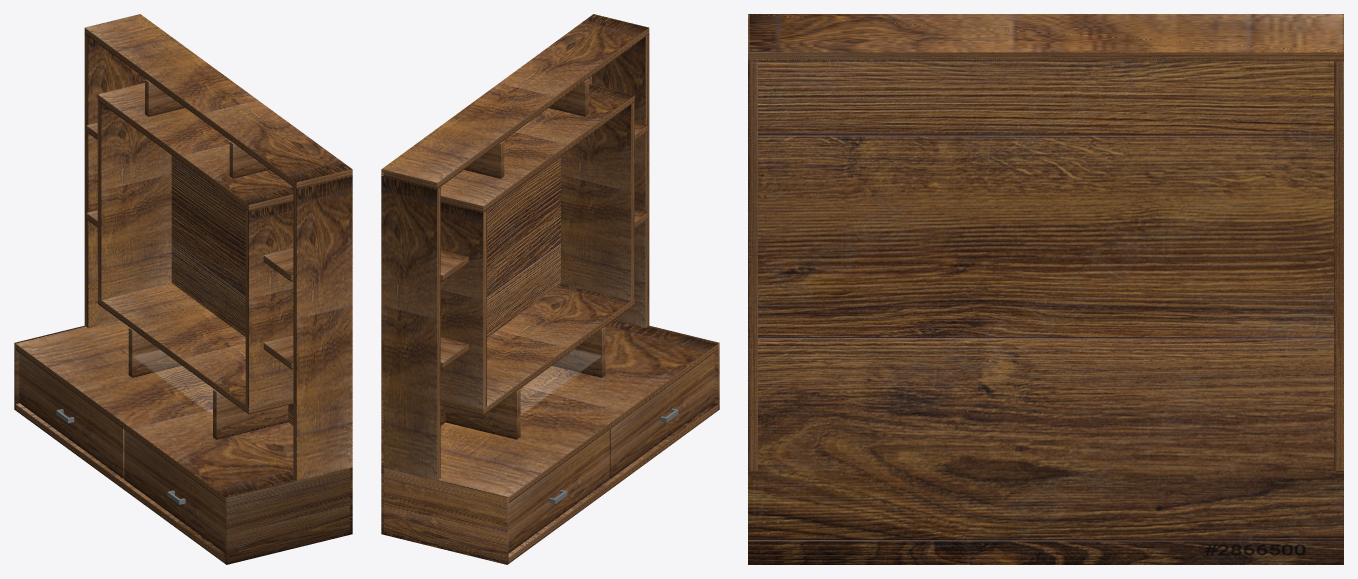
The picture shows the model from 3 angles, left to right: view 1: azimuth 30°, elevation 25°; view 2: azimuth 150°, elevation 25°; view 3: azimuth 270°, elevation 25°; orthographic projection. The views are drawn at different scales.
Visible parts, largest first — view 1: Box007, Box016, Box017, Box019, ChamferBox003, Box021, ChamferBox002, Box020, Box018, Box015, Box002, Box005 (+9 smaller); view 2: Box007, Box015, Box017, Box020, ChamferBox003, Box021, ChamferBox001, Box019, Box018, Box016, Box005, Box002 (+9 smaller); view 3: ChamferBox003, Box017, Box016, Box015.
Boxes of the visible parts, box(x1,y1,x2,y2) form: Box007: box(15, 320, 294, 502); Box016: box(293, 175, 352, 480); Box017: box(84, 14, 352, 188); Box019: box(97, 101, 171, 299); ChamferBox003: box(142, 76, 352, 534); Box021: box(97, 283, 293, 414); ChamferBox002: box(225, 468, 350, 564); Box020: box(245, 201, 293, 407); Box018: box(97, 83, 293, 211); Box015: box(84, 34, 141, 328); Box002: box(19, 353, 124, 478); Box005: box(124, 430, 225, 553); Box007: box(439, 320, 718, 502); Box015: box(381, 175, 440, 480); Box017: box(381, 14, 649, 188); Box020: box(561, 102, 634, 300); ChamferBox003: box(381, 76, 591, 534); Box021: box(440, 284, 634, 415); ChamferBox001: box(383, 468, 508, 564); Box019: box(440, 202, 486, 408); Box018: box(440, 84, 634, 212); Box016: box(592, 34, 649, 328); Box005: box(609, 353, 714, 478); Box002: box(508, 430, 609, 553); ChamferBox003: box(748, 55, 1343, 564); Box017: box(748, 14, 1343, 61); Box016: box(748, 61, 757, 470); Box015: box(1334, 61, 1343, 470).
Bounding box in the file's own units: 0.6252 × 1.69 × 1.78.
Materials: 3 (2 with a texture image).
